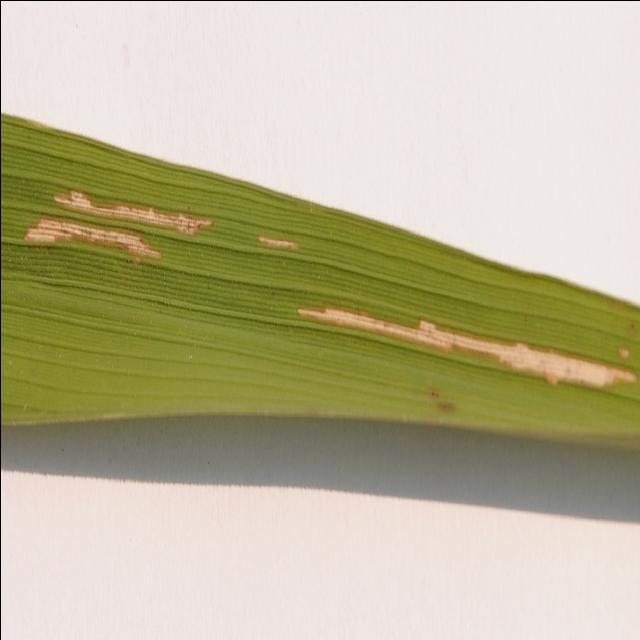Unhealthy: (297, 306, 637, 386), (53, 190, 212, 238), (24, 217, 160, 264), (257, 233, 298, 248), (616, 346, 628, 359)
